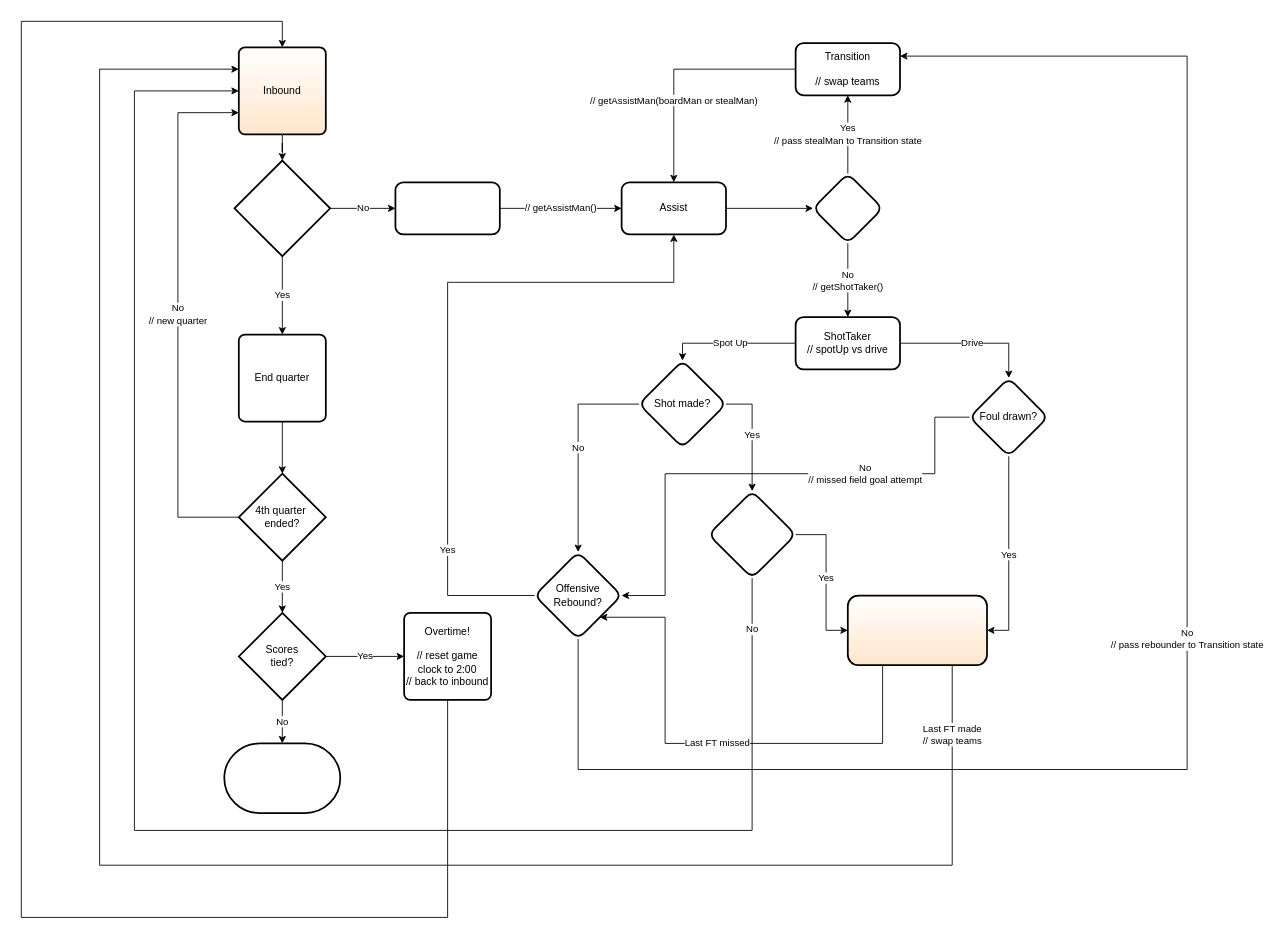
The diagram is 1279 pixels wide and 940 high, and some of its shapes have lost their labels. The centre of each missing label's shape, as x and y in pixels:
And-1: (751,534)
Free throws // use local variable to store no. of FTs: (917,630)
Game clock at 0:00?: (282,208)
Game Over // setGameWinner() // setGameLoser(): (282,777)
Half court: (447,208)
Steal?: (847,208)
